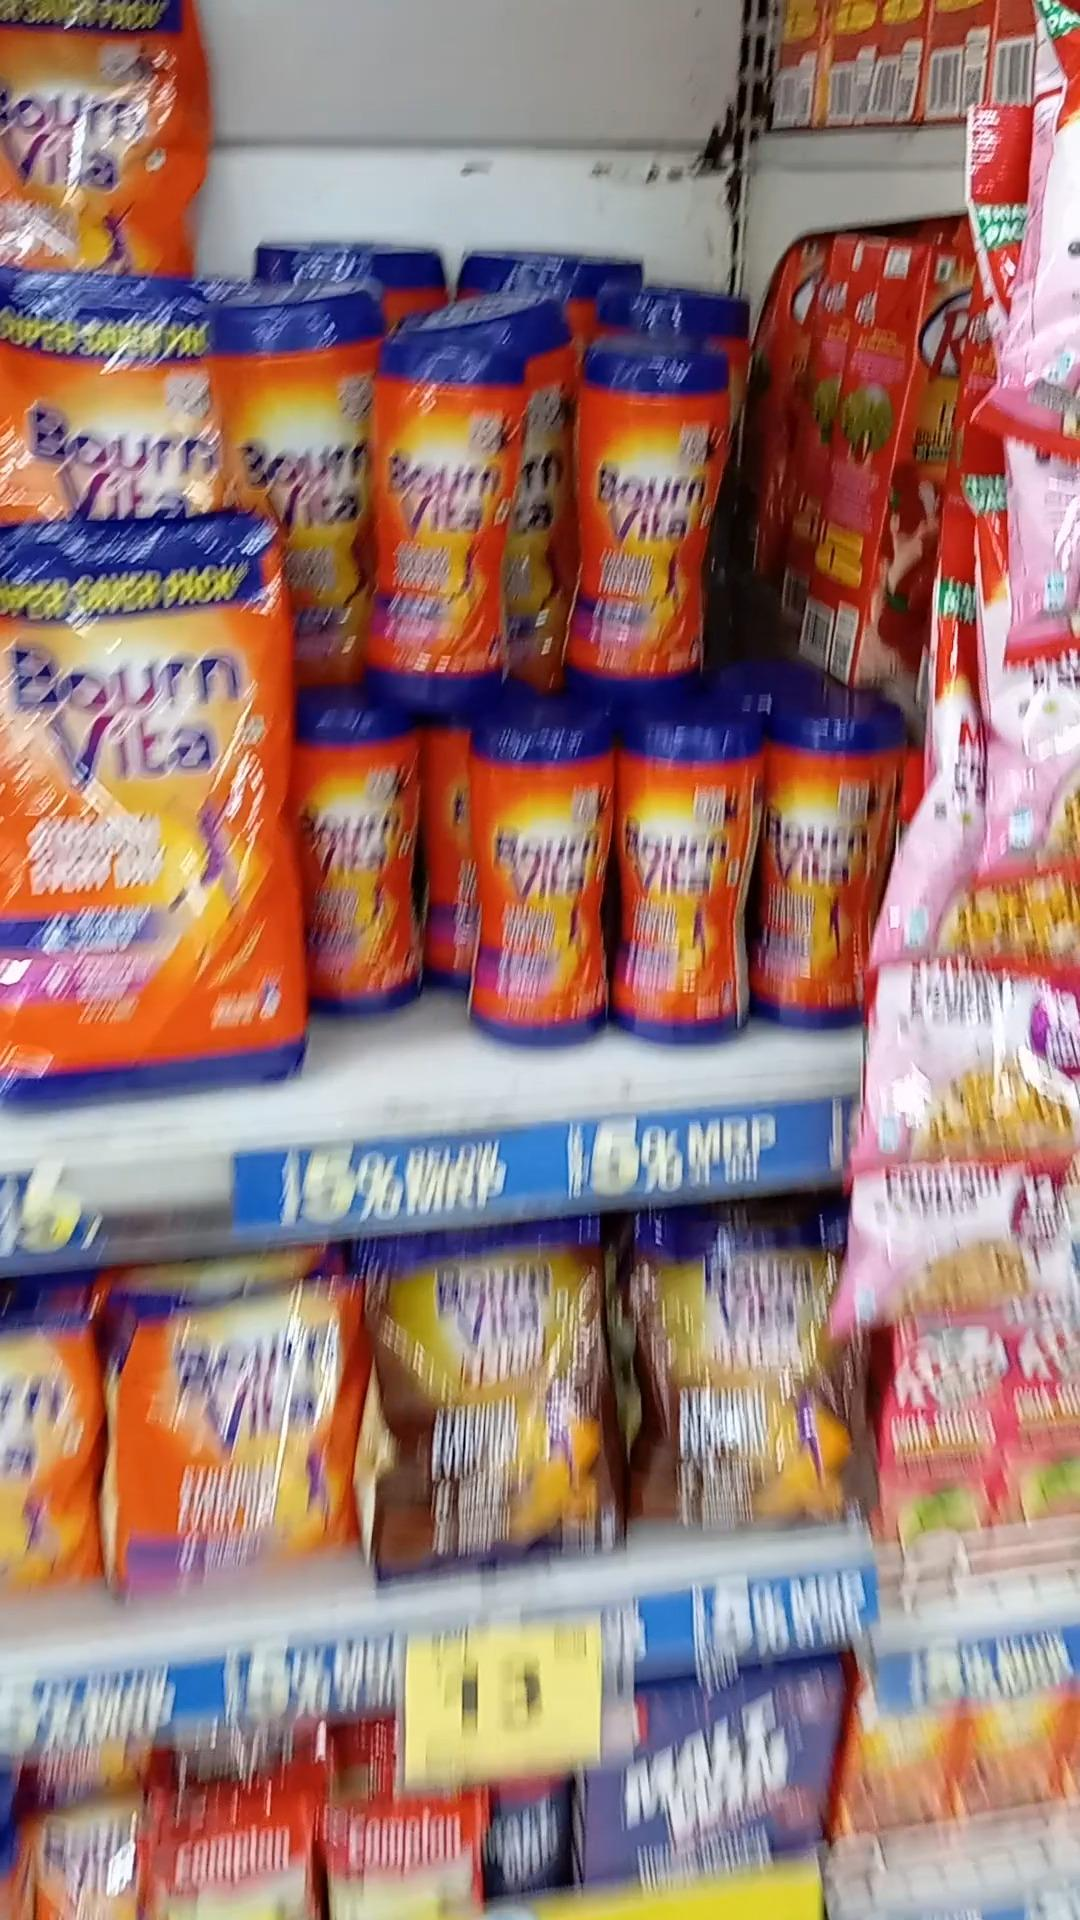BOURN_VITA_1_KG_POUCH: (3, 508, 298, 1101)
BOURN_VITA_500_G_JAR: (375, 336, 510, 702), (578, 339, 711, 696), (618, 705, 754, 1048), (472, 711, 609, 1046), (303, 707, 423, 1015), (766, 709, 870, 1033)
